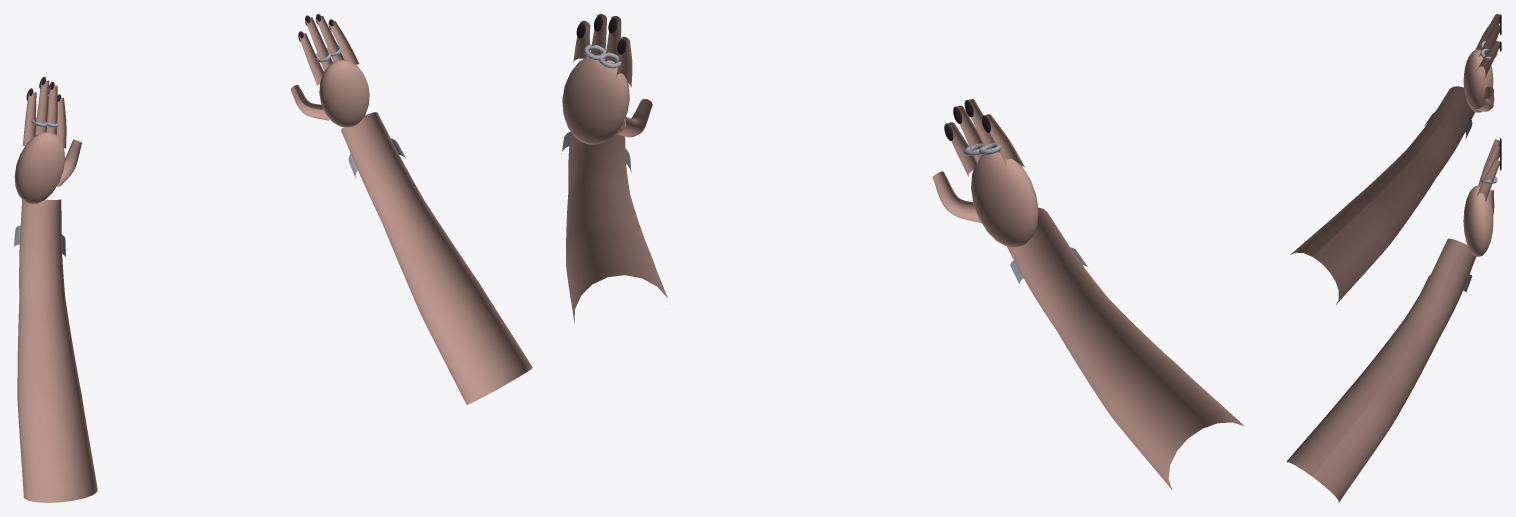
Rendered from hands.glb.
3 views of the same model, side by side, from view 1: azimuth 30°, elevation 25°; view 2: azimuth 150°, elevation 25°; view 3: azimuth 270°, elevation 25° (orthographic). The views are drawn at different scales.
Parts seen in each view (by area): view 1: hand-1, hand-0; view 2: hand-0, hand-1; view 3: hand-1, hand-0.
Boxes of the visible parts, x1,y1,x2,y2 form: hand-1: (290,14,532,404); hand-0: (14,76,97,502); hand-0: (932,99,1243,489); hand-1: (561,14,667,323); hand-1: (1286,138,1501,502); hand-0: (1290,14,1501,304).
Bounding box in the file's own units: 0.9826 × 0.6423 × 0.3872.
